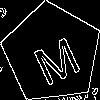M: (27, 28, 84, 87)
